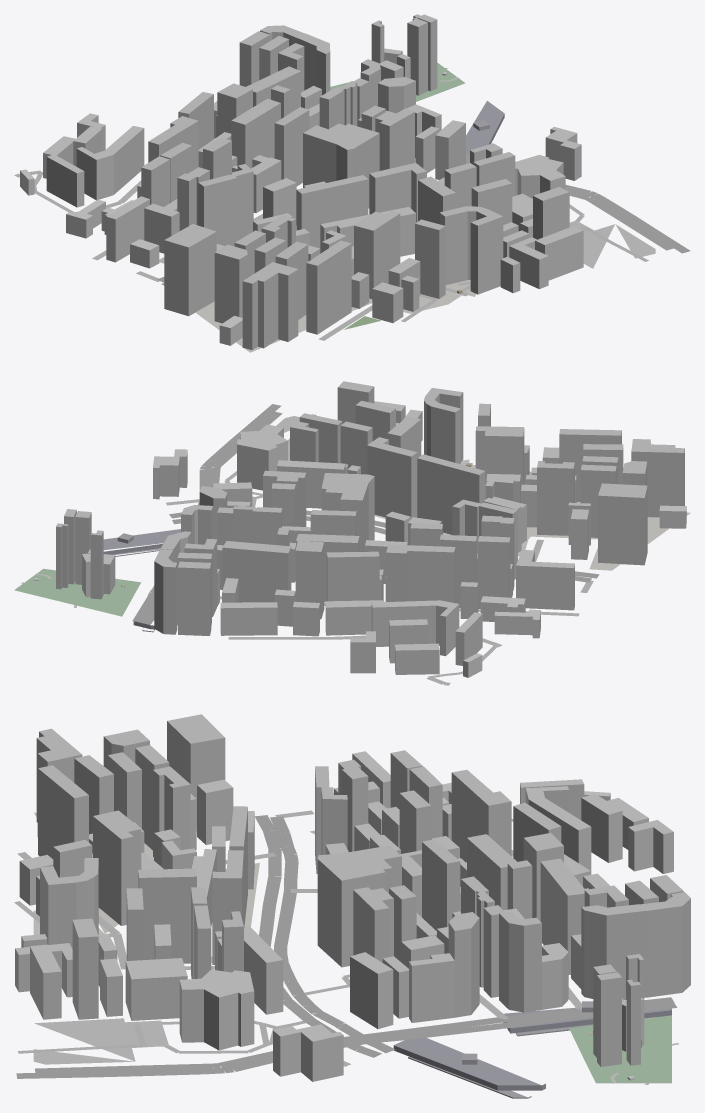
3 views of the same model, one above another, from view 1: azimuth 30°, elevation 25°; view 2: azimuth 150°, elevation 25°; view 3: azimuth 270°, elevation 25° (orthographic). The views are drawn at different scales.
Bounding box in the file's own units: 528 × 89.3 × 530.
